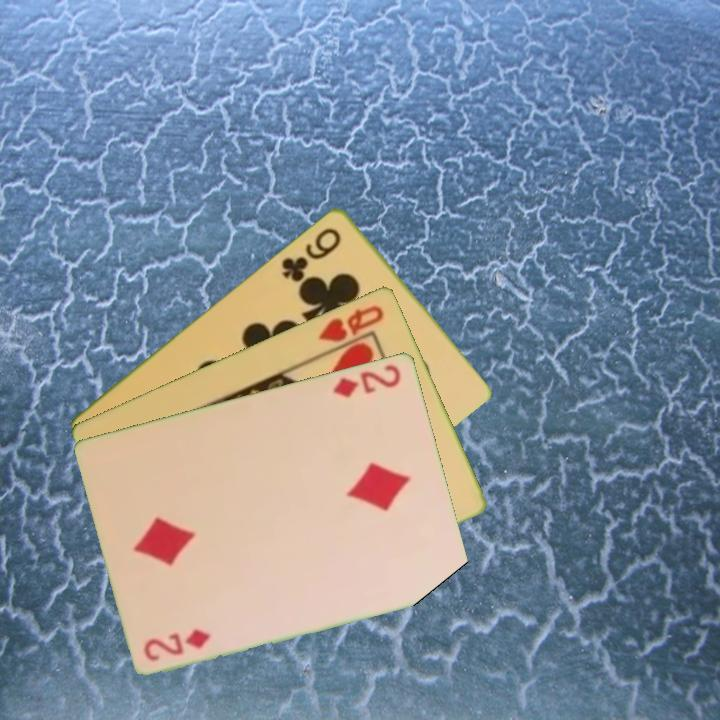2d: (330, 360, 404, 400), (140, 625, 214, 664)
9c: (277, 223, 344, 284)
Qh: (314, 300, 387, 345)
